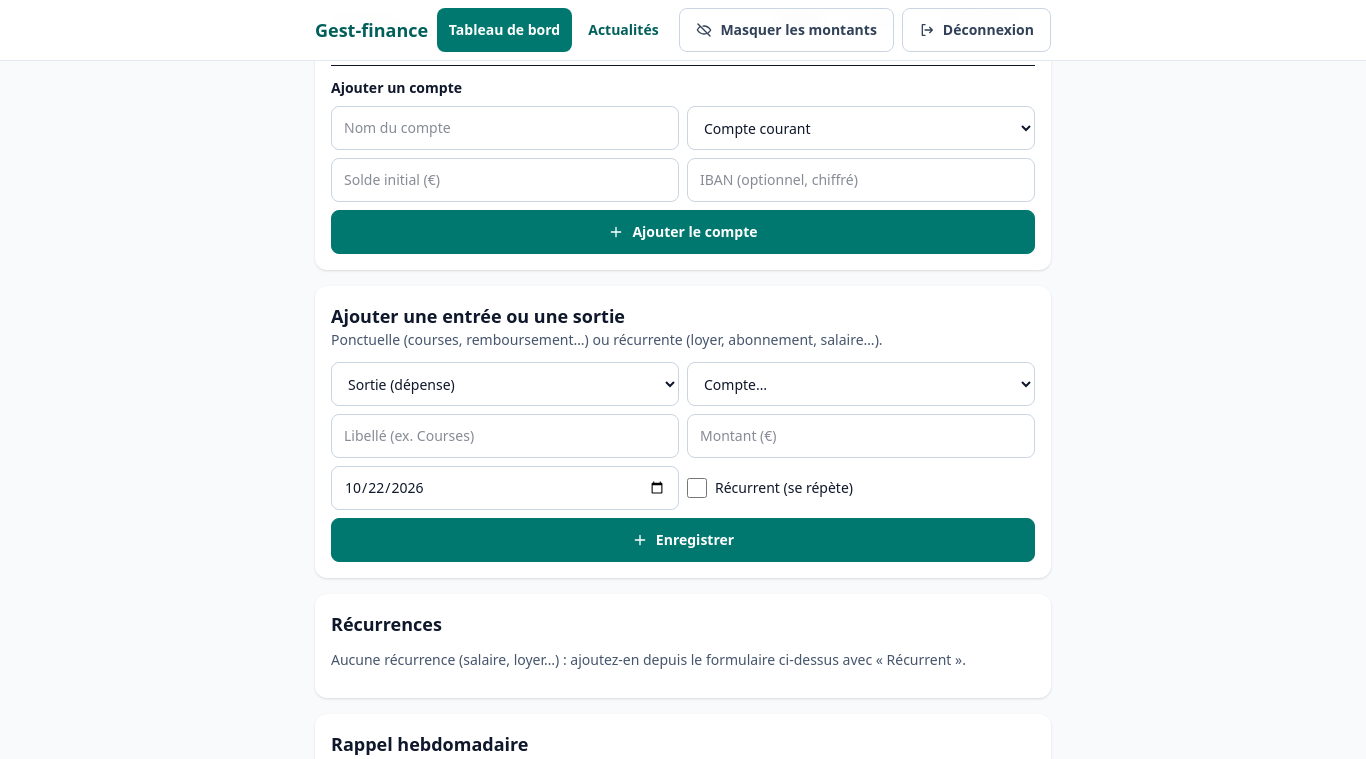
it: App › refuse un montant invalide sans appeler l'API
(page scrolled)
Select "Courant" in the dropdown named "Compte" at (861, 384), box top-left (687, 362), bottom-right (1035, 406)
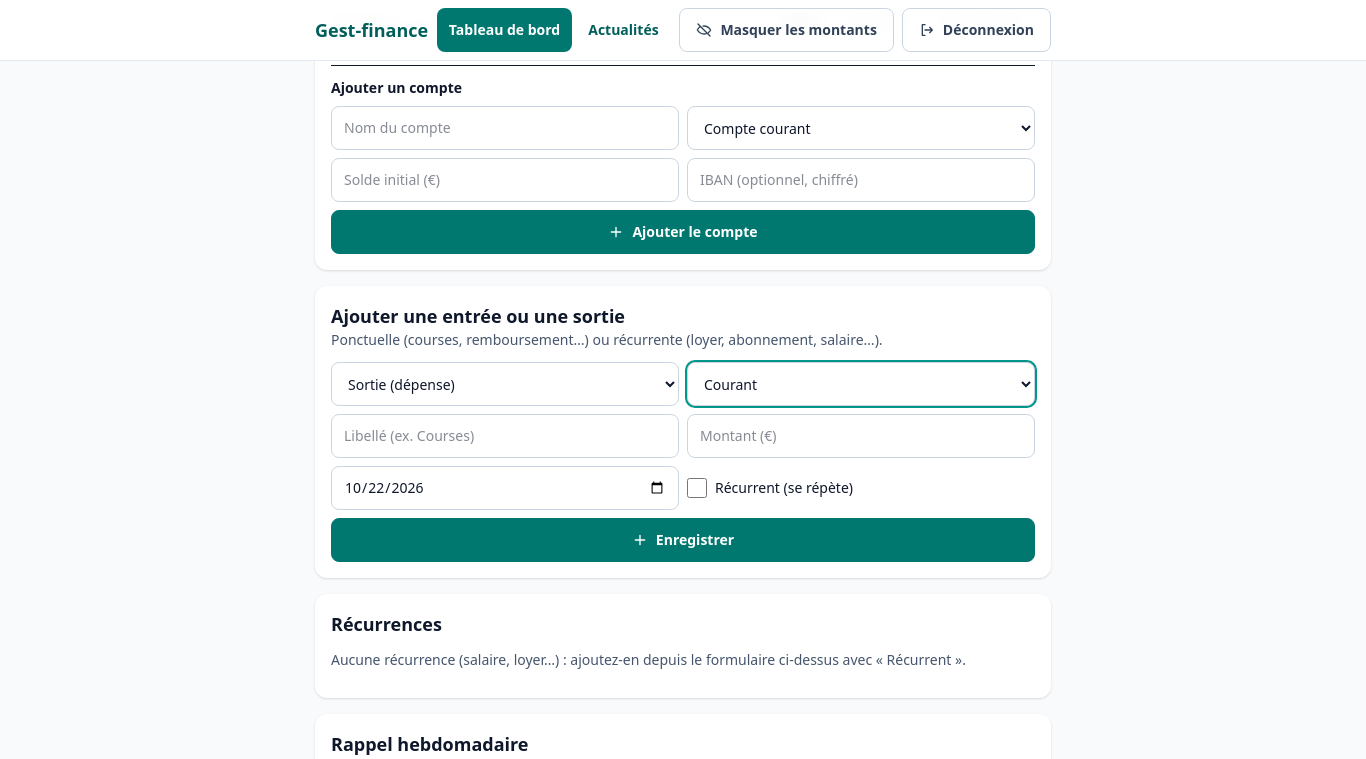
Type "x" into the field labelled "Libellé".
click(505, 436); type("x")  # box top-left (331, 414), bottom-right (679, 458)
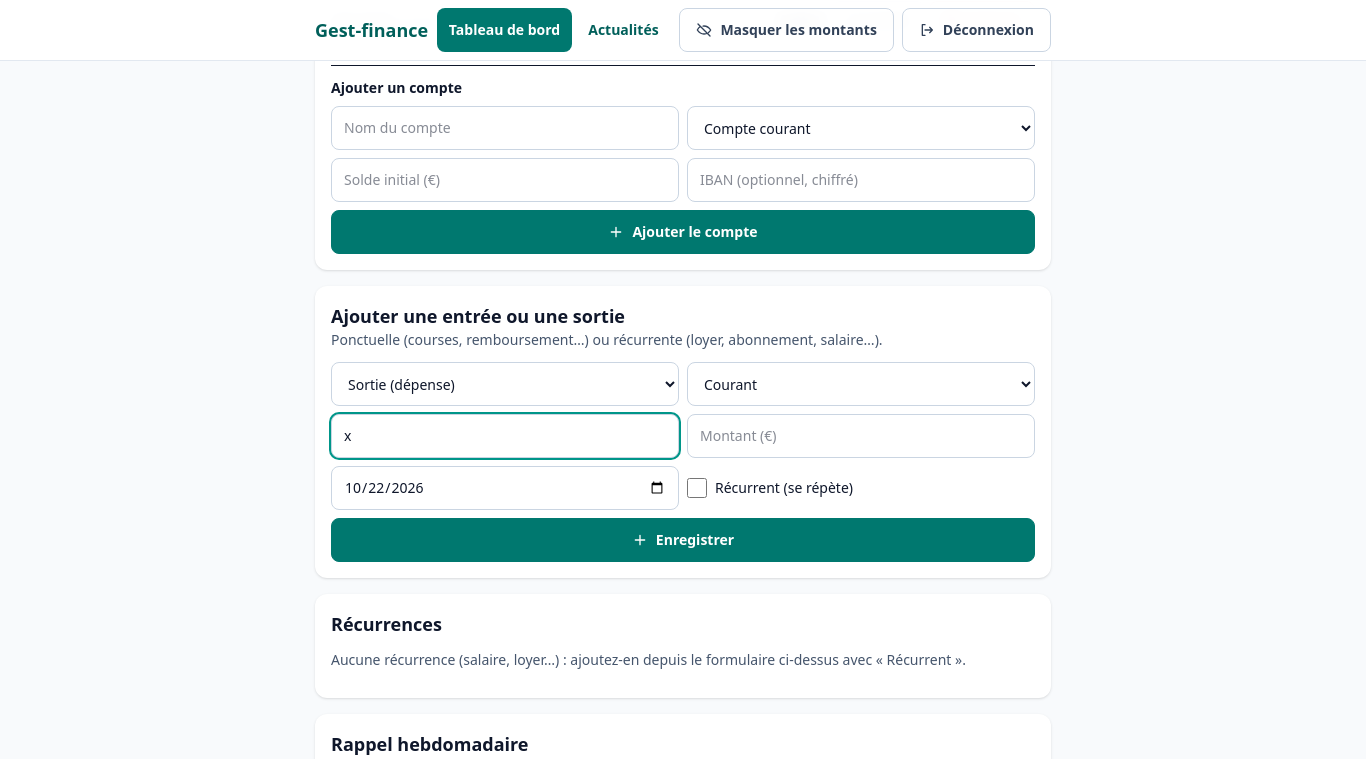
Type "abc" into the field labelled "Montant".
click(861, 436); type("abc")  # box top-left (687, 414), bottom-right (1035, 458)
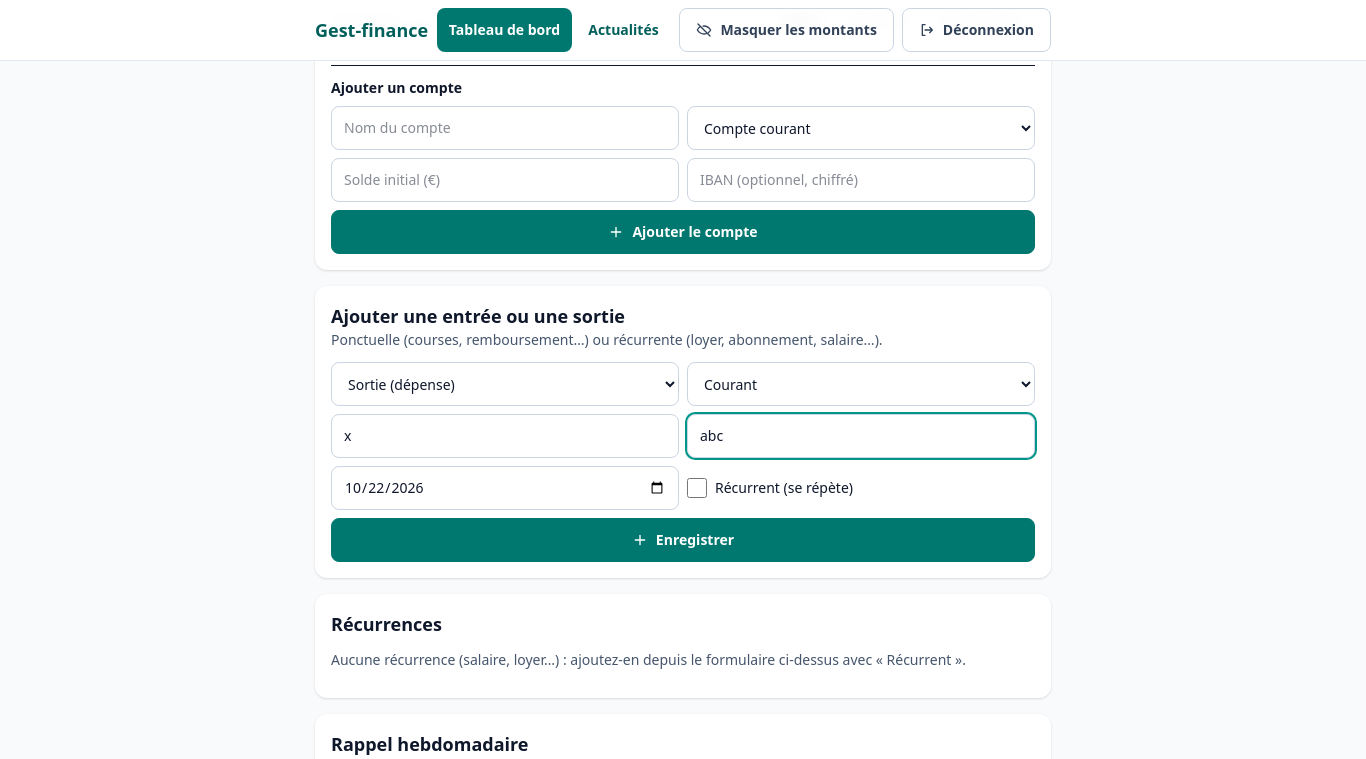
Click the button "Enregistrer".
click(683, 540)  # box top-left (331, 518), bottom-right (1035, 562)
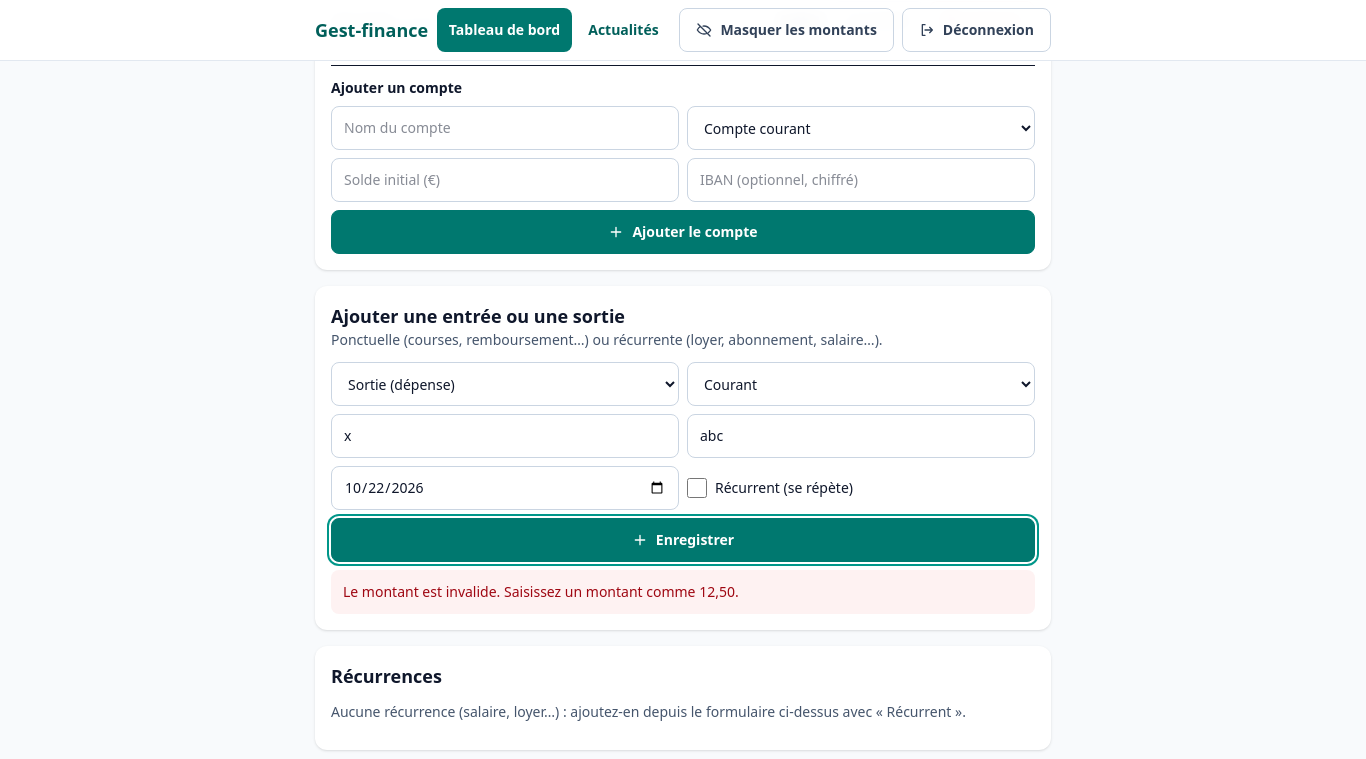
Result: the message shows "Le montant est invalide" at top-left (343, 582), bottom-right (739, 601)
